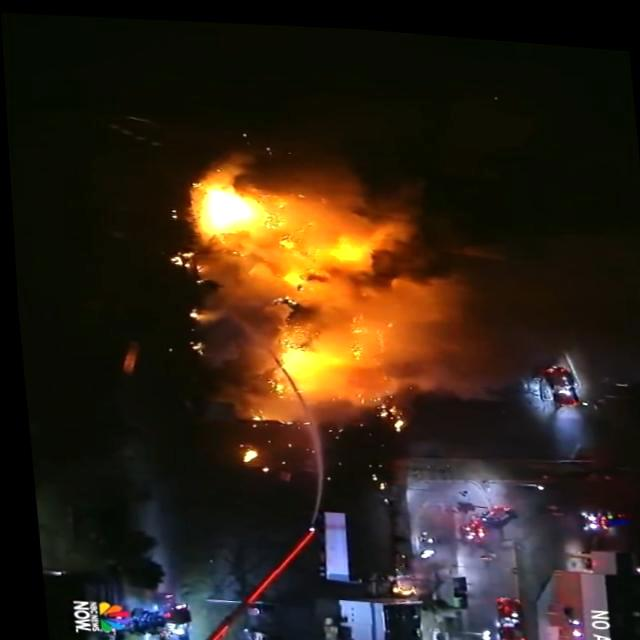fire: (178, 156, 370, 388), (220, 432, 268, 472)
